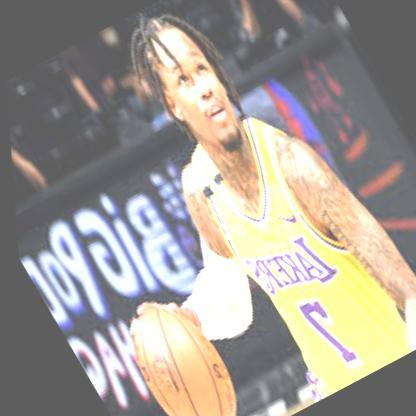basketball: (105, 290, 248, 416)
